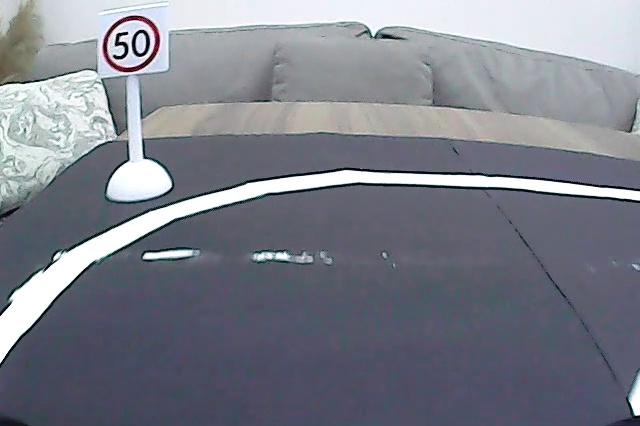speed limit 50: (102, 12, 162, 74)
